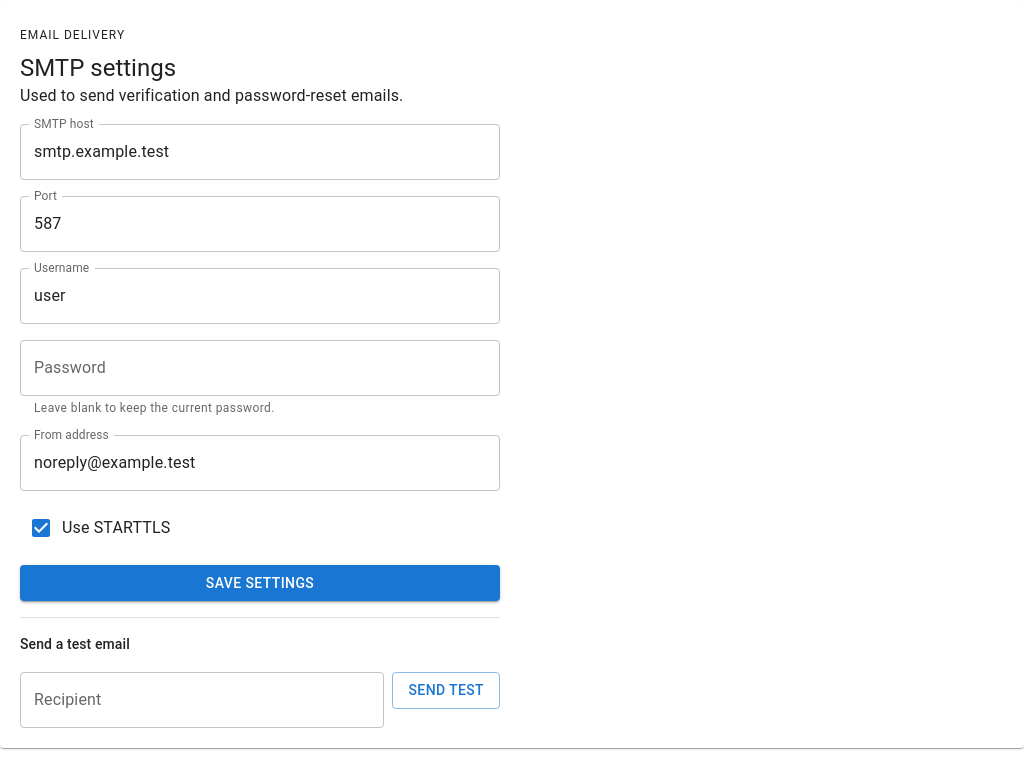
Test: blocks an out-of-range port and shows the error on the Port field
Replace the text in the number field labelled "Port" with "70000" at coordinates (260, 224), box [20,196,500,252]
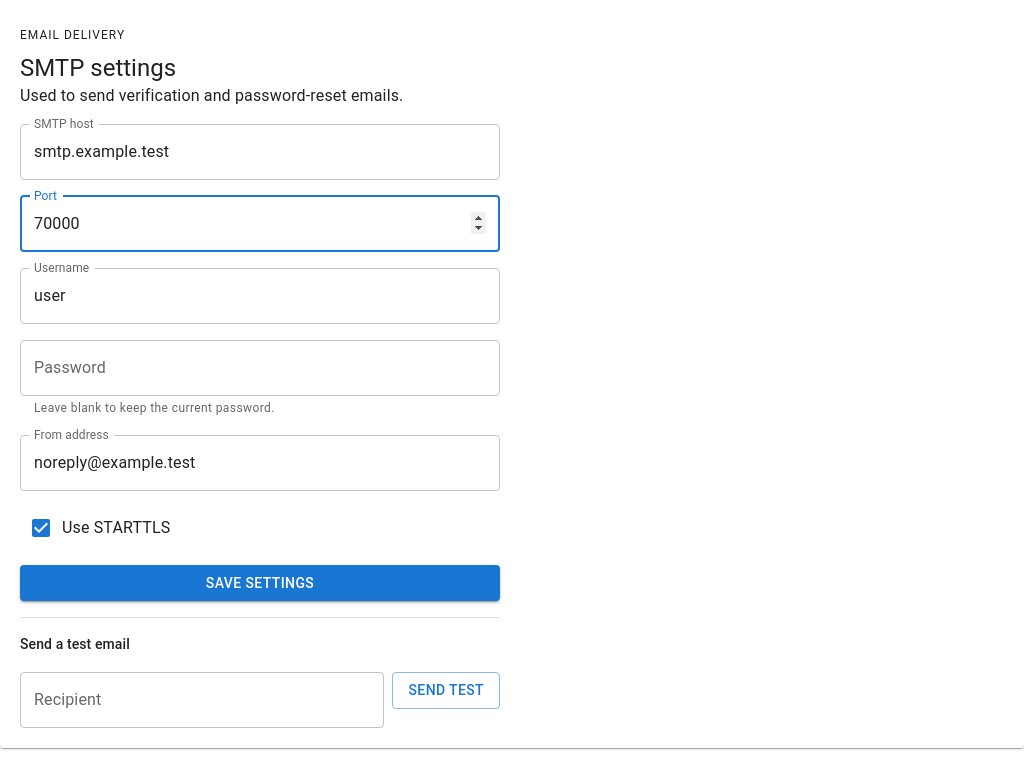
Click the button "Save settings" at coordinates (260, 583), box [20,565,500,601]
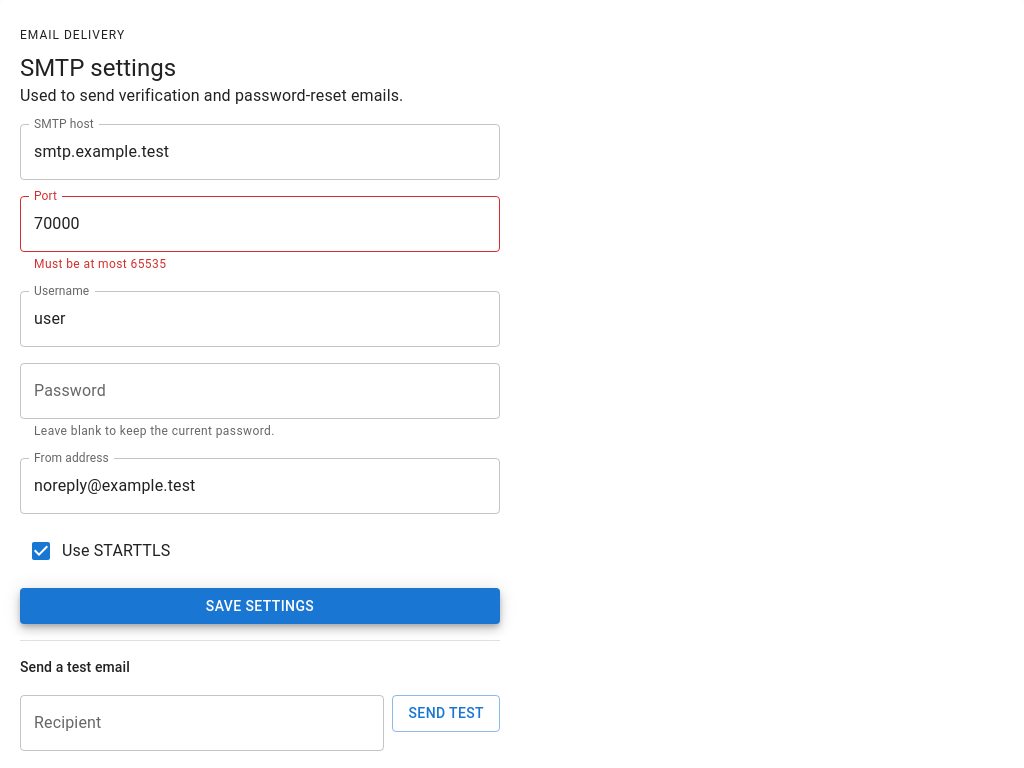
Expected: the text "Must be at most 65535" is shown, [34,257,166,271]
